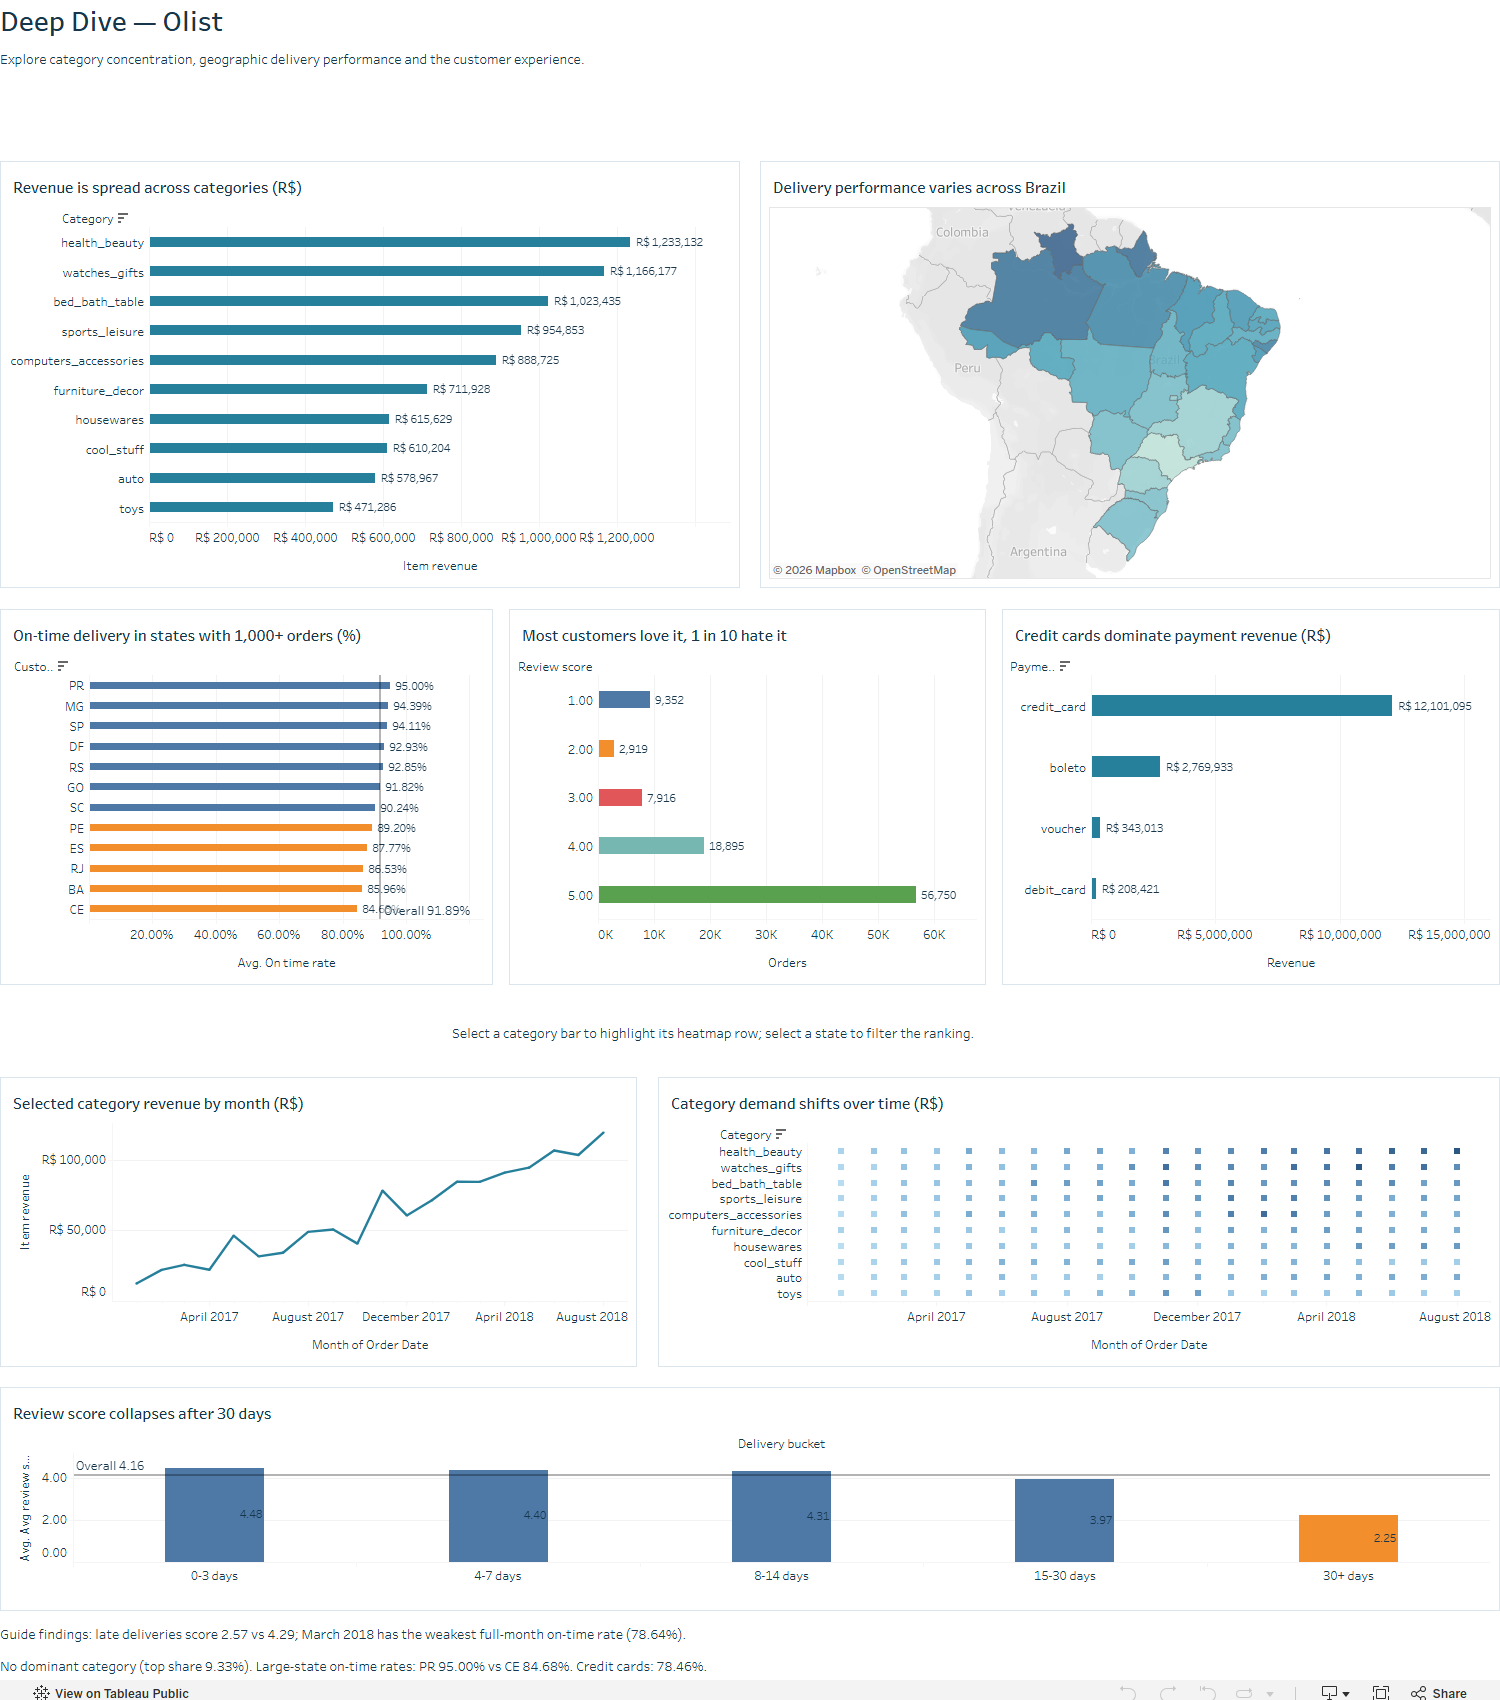

This screenshot's page, from the dashboard's own definition file:
{"tool":"tableau","page":{"name":"Deep Dive","canvas":[1500,1680],"ordinal":0},"visuals":[{"type":"text","box":[0,0,1027.4,38.7]},{"type":"text","box":[0,43.7,1479.4,30.5]},{"type":"worksheet","title":"Top N Categories","mark":"Bar","rows":["category"],"cols":["item_revenue"],"box":[0,160.8,739.7,427.4]},{"type":"worksheet","title":"Delivery Map by State","mark":"Multipolygon","box":[760.3,160.8,739.7,427.4]},{"type":"worksheet","title":"State Ranking","mark":"Bar","rows":["customer_state"],"cols":["on_time_rate"],"box":[0,608.5,493.1,376.5]},{"type":"worksheet","title":"Review Distribution","mark":"Bar","rows":["review_score"],"cols":["orders"],"box":[508.5,608.5,477.7,376.5]},{"type":"worksheet","title":"Payment Mix","mark":"Bar","rows":["payment_type"],"cols":["revenue"],"box":[1001.7,608.5,498.3,376.5]},{"type":"text","box":[452.1,1012.5,1047.9,40.7]},{"type":"worksheet","title":"Category Trend","mark":"Line","rows":["item_revenue"],"cols":["Order Date"],"box":[0,1076.6,637,290]},{"type":"worksheet","title":"Category Heatmap","mark":"Square","rows":["category"],"cols":["Order Date"],"box":[657.5,1076.6,842.5,290]},{"type":"worksheet","title":"Review vs Delivery Delay","mark":"Bar","rows":["avg_review_score"],"cols":["delivery_bucket"],"box":[0,1386.9,1500,223.9]},{"type":"text","box":[0,1621,1500,25.4]},{"type":"text","box":[0,1651.5,1500,28.5]}]}

Visuals, with their boxes on the page's 1500x1680 design canvas (x1, y1, x2, y2). These are canvas units, not pixel positions in the 1500x1700 screenshot, which may show the page scaled, cropped or inside an application window:
text: box(0, 0, 1027, 39)
text: box(0, 44, 1479, 74)
"Top N Categories" worksheet (Bar marks): box(0, 161, 740, 588)
"Delivery Map by State" worksheet (Multipolygon marks): box(760, 161, 1500, 588)
"State Ranking" worksheet (Bar marks): box(0, 608, 493, 985)
"Review Distribution" worksheet (Bar marks): box(508, 608, 986, 985)
"Payment Mix" worksheet (Bar marks): box(1002, 608, 1500, 985)
text: box(452, 1012, 1500, 1053)
"Category Trend" worksheet (Line marks): box(0, 1077, 637, 1367)
"Category Heatmap" worksheet (Square marks): box(658, 1077, 1500, 1367)
"Review vs Delivery Delay" worksheet (Bar marks): box(0, 1387, 1500, 1611)
text: box(0, 1621, 1500, 1646)
text: box(0, 1652, 1500, 1680)
